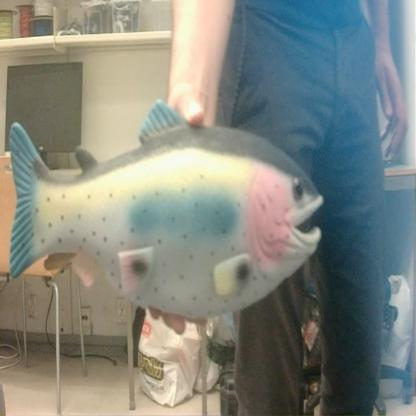rubberfish: (3, 92, 327, 322)
